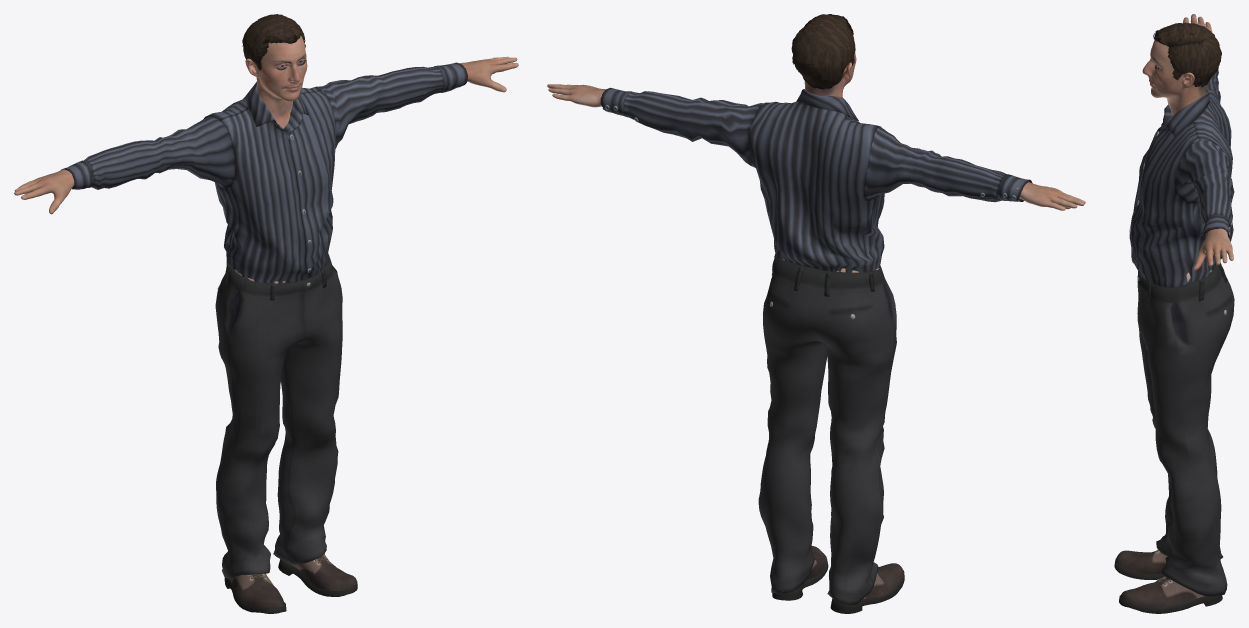
The model's file is male_civ_v2.glb.
3 views of the same model, side by side, from view 1: azimuth 30°, elevation 25°; view 2: azimuth 150°, elevation 25°; view 3: azimuth 270°, elevation 25° (orthographic). The views are drawn at different scales.
Visible parts, largest first — view 1: Object_3, Object_4, Object_2; view 2: Object_3, Object_4, Object_2; view 3: Object_3, Object_4, Object_2.
Boxes of the visible parts, left/top/right/bottom form: Object_3: left=215, top=14, right=357, bottom=613; Object_4: left=61, top=60, right=467, bottom=283; Object_2: left=14, top=35, right=518, bottom=283; Object_3: left=758, top=14, right=904, bottom=613; Object_4: left=600, top=87, right=1032, bottom=272; Object_2: left=547, top=35, right=1085, bottom=272; Object_3: left=1114, top=23, right=1234, bottom=613; Object_4: left=1129, top=66, right=1234, bottom=287; Object_2: left=1142, top=14, right=1233, bottom=281.
Size of the model in its own units: 174 by 182 by 35.28.
Materials: 1 (1 with a texture image).
